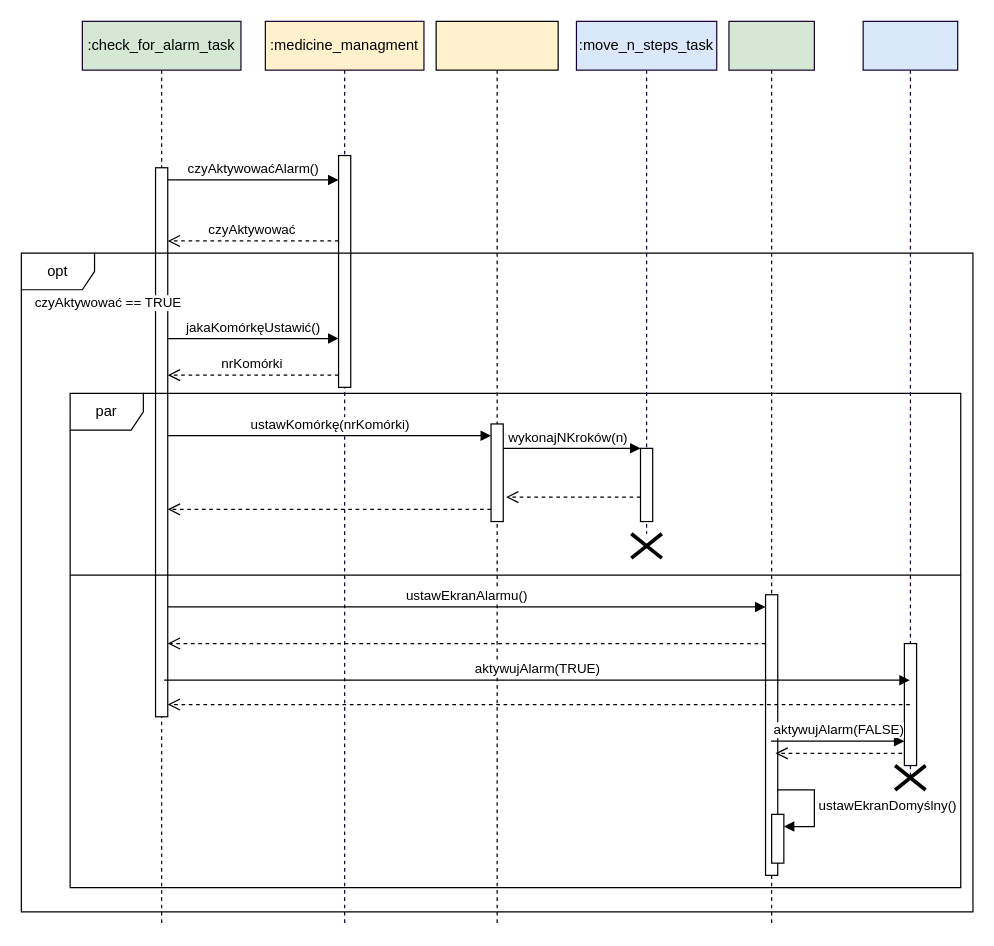
Image size: 994x946. Some labels were removed from this diagram. Here are the shapes that lost their labels. From the top down, the box of each, then its label:
(862, 20, 958, 778): :alarm_task
(435, 20, 558, 924): :motor_driver
(728, 20, 814, 924): :lvgl_task
